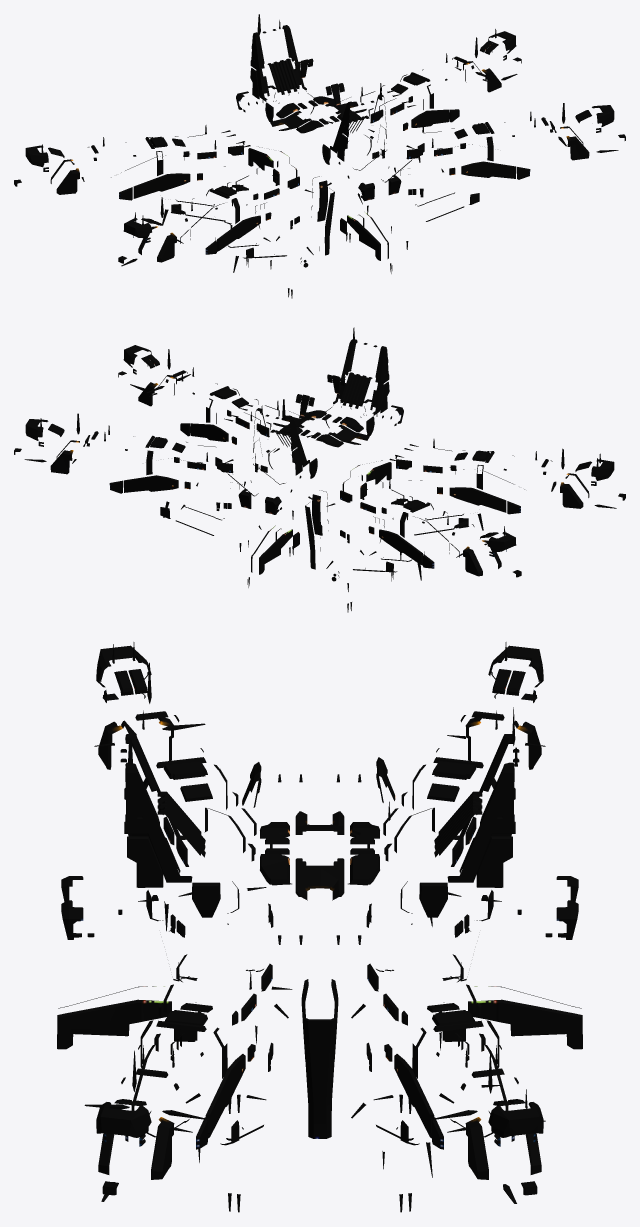
The model's file is tan_st_orbi_01.glb.
3 renders of one model, top to bottom at view 1: azimuth 30°, elevation 25°; view 2: azimuth 150°, elevation 25°; view 3: azimuth 270°, elevation 25°, orthographic. The views are drawn at different scales.
Visible parts, largest first — view 1: tan_station_01_LOD0; view 2: tan_station_01_LOD0; view 3: tan_station_01_LOD0.
Part boxes in pixels (x1,y1,x2,y2): tan_station_01_LOD0: [14, 14, 625, 298]; tan_station_01_LOD0: [14, 327, 625, 612]; tan_station_01_LOD0: [57, 642, 582, 1212].
Size of what is drawn, in the model's own units: 71.37 by 30.06 by 32.1.
Materials: 1 (1 with a texture image).
